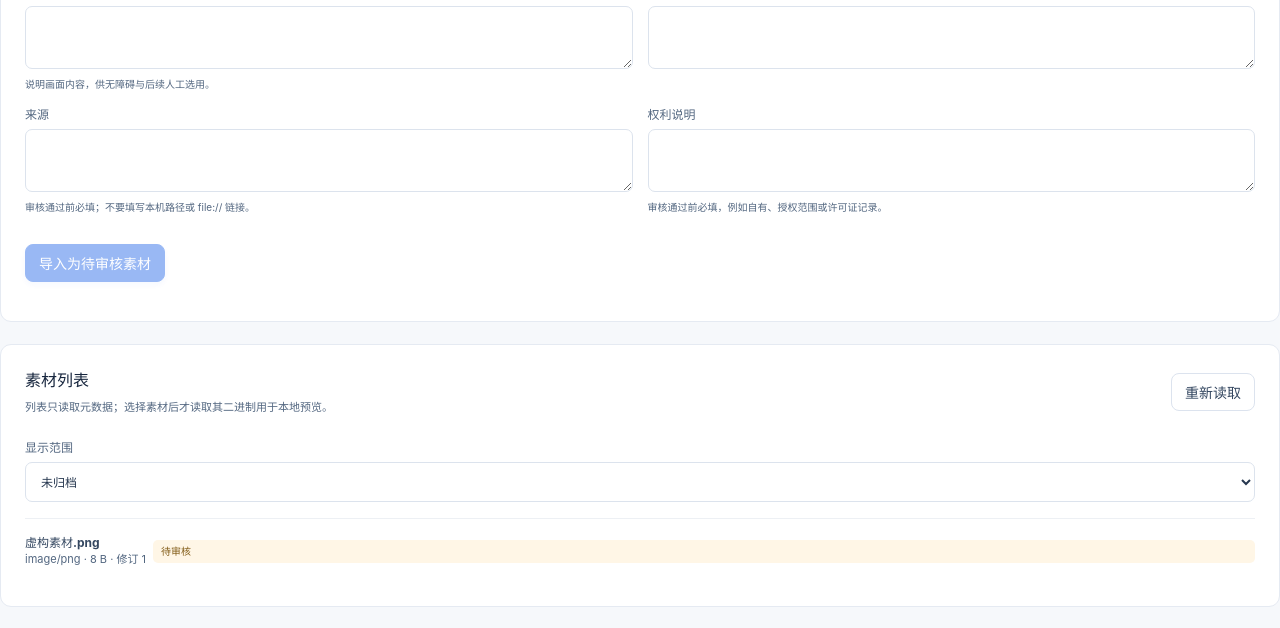
Test case: approves_and_archives_with_the_current_optimistic_revision
(page scrolled)
Click the button "虚构素材.png image/png · 8 B · 修订 1 待审核" at (640, 551), box [25,518,1255,583]
(page scrolled)
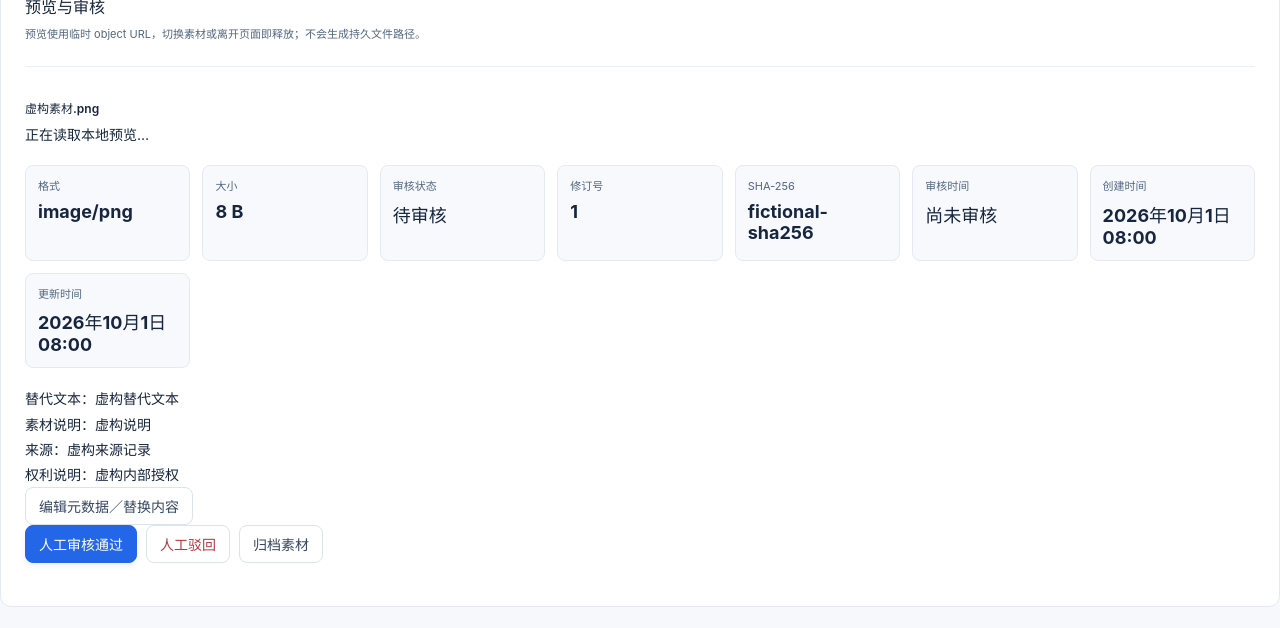
Click the button "人工审核通过" at (81, 544), box [25,525,137,563]
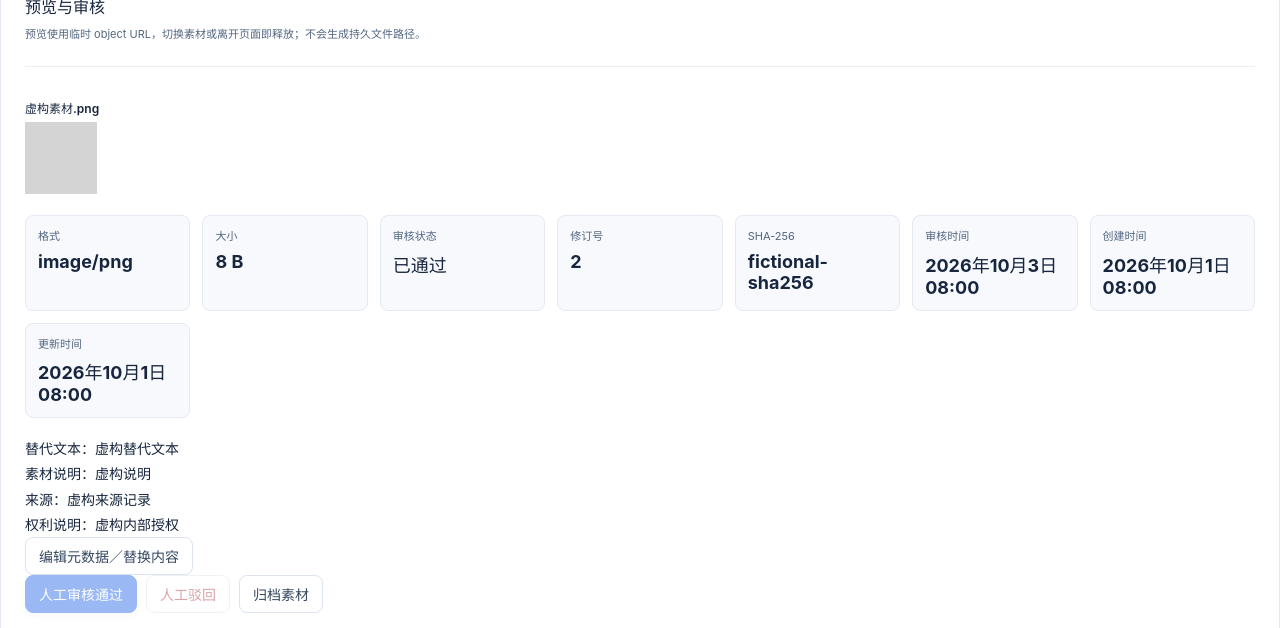
Click the button "归档素材" at (281, 594), box [239,575,323,613]
(page scrolled)
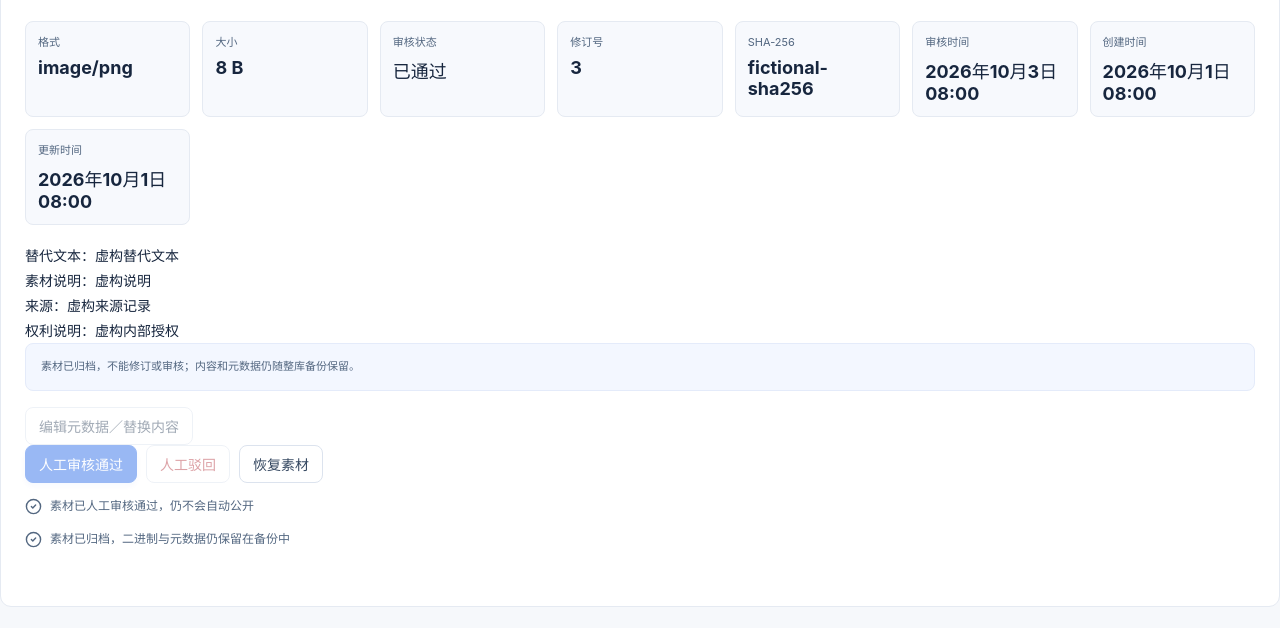
Expected: the button "人工审核通过" is disabled, [25,445,137,483]
Expected: the text "素材已归档，二进制与元数据仍保留在备份中" is shown, [25,531,290,548]
Expected: the button "编辑元数据／替换内容" is disabled, [25,407,193,445]
